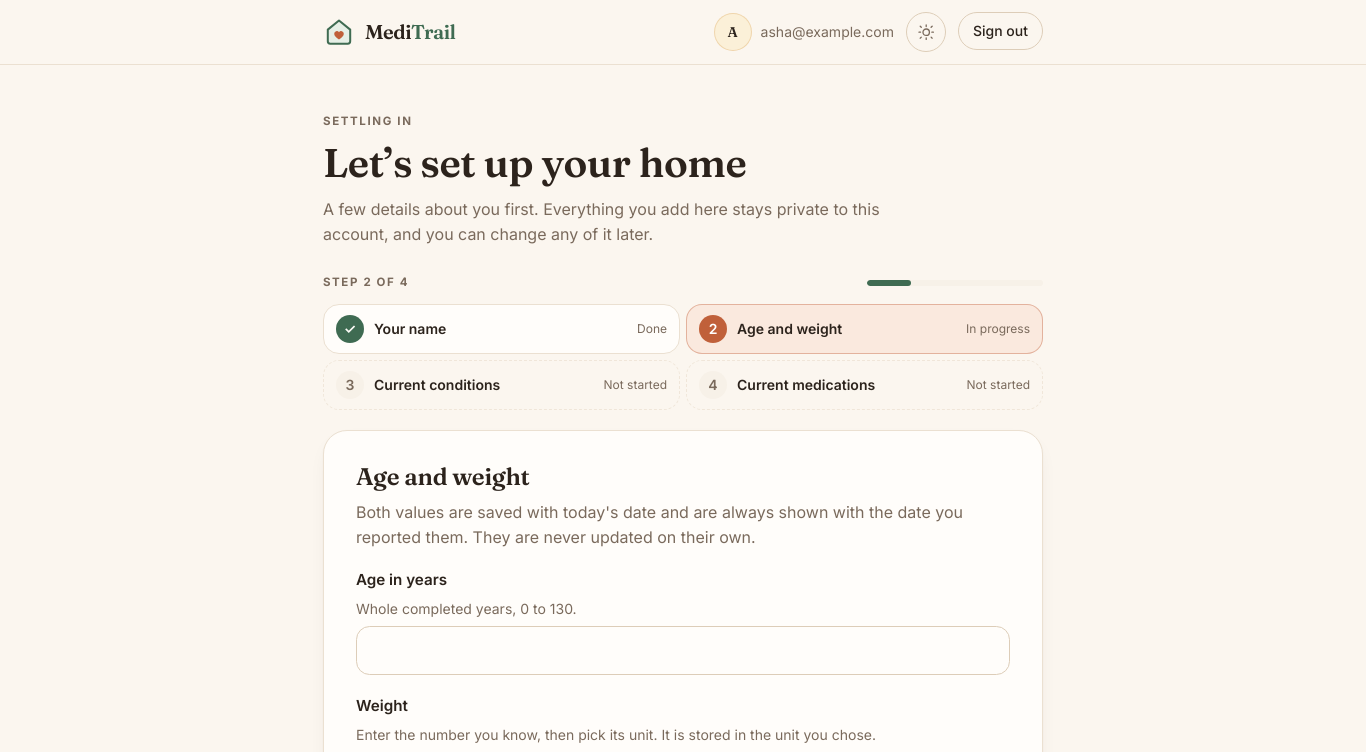
Test case: OnboardingWizard › sends age and weight with the reported time and the entered unit
The width and height of the screenshot is (1366, 752).
Expected: the heading "Age and weight" is shown, left=356, top=462, right=530, bottom=491
In the field labelled "Age in years": (683, 651) left=356, top=626, right=1010, bottom=675, type "34"
(page scrolled)
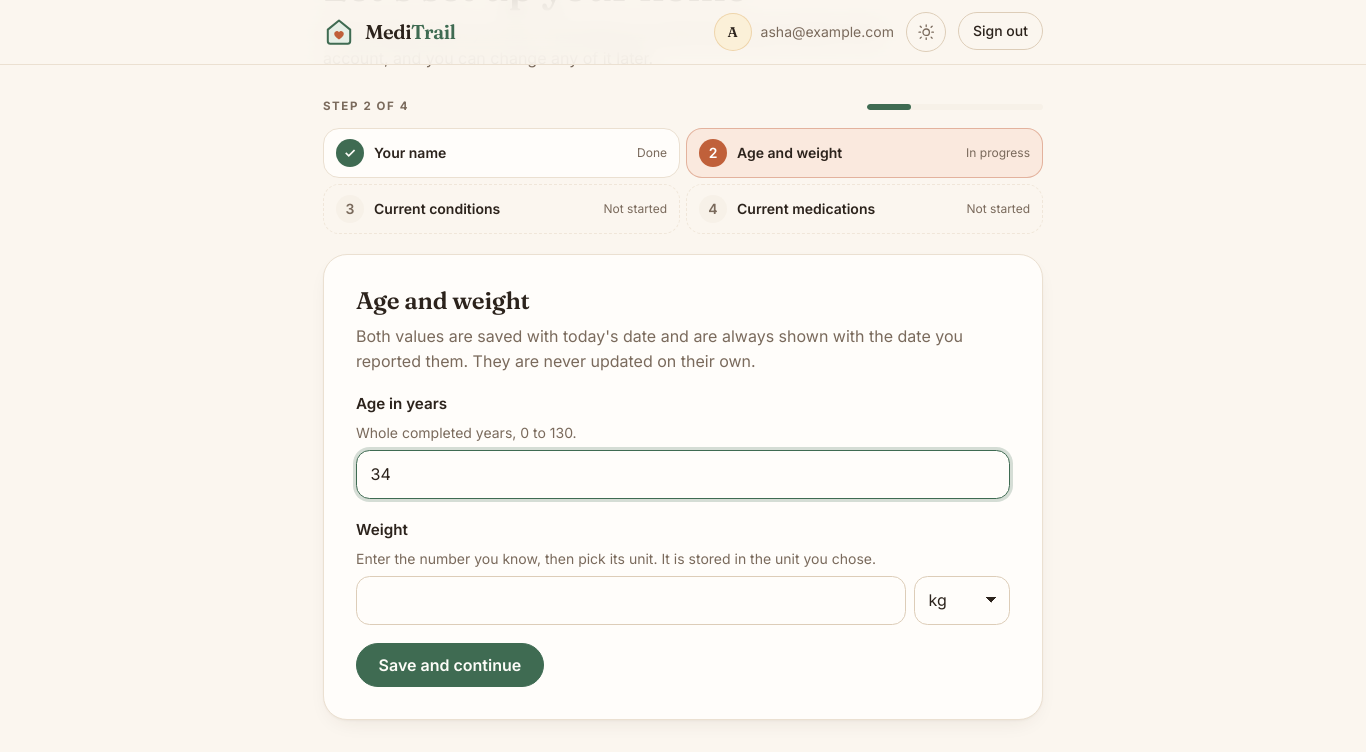
In the field labelled "Weight": (631, 600) left=356, top=576, right=906, bottom=625, type "150"
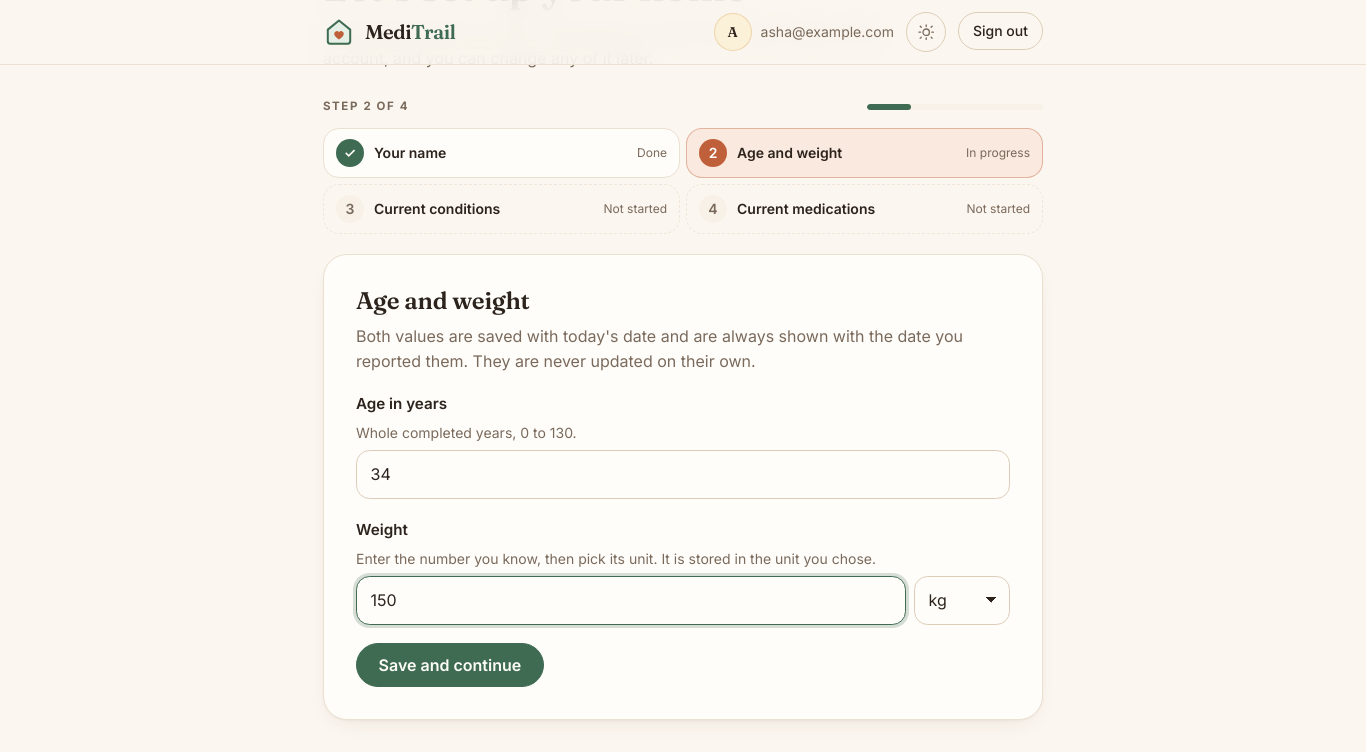
Select "lb" in the dropdown named "Weight unit": (962, 600) left=914, top=576, right=1010, bottom=625
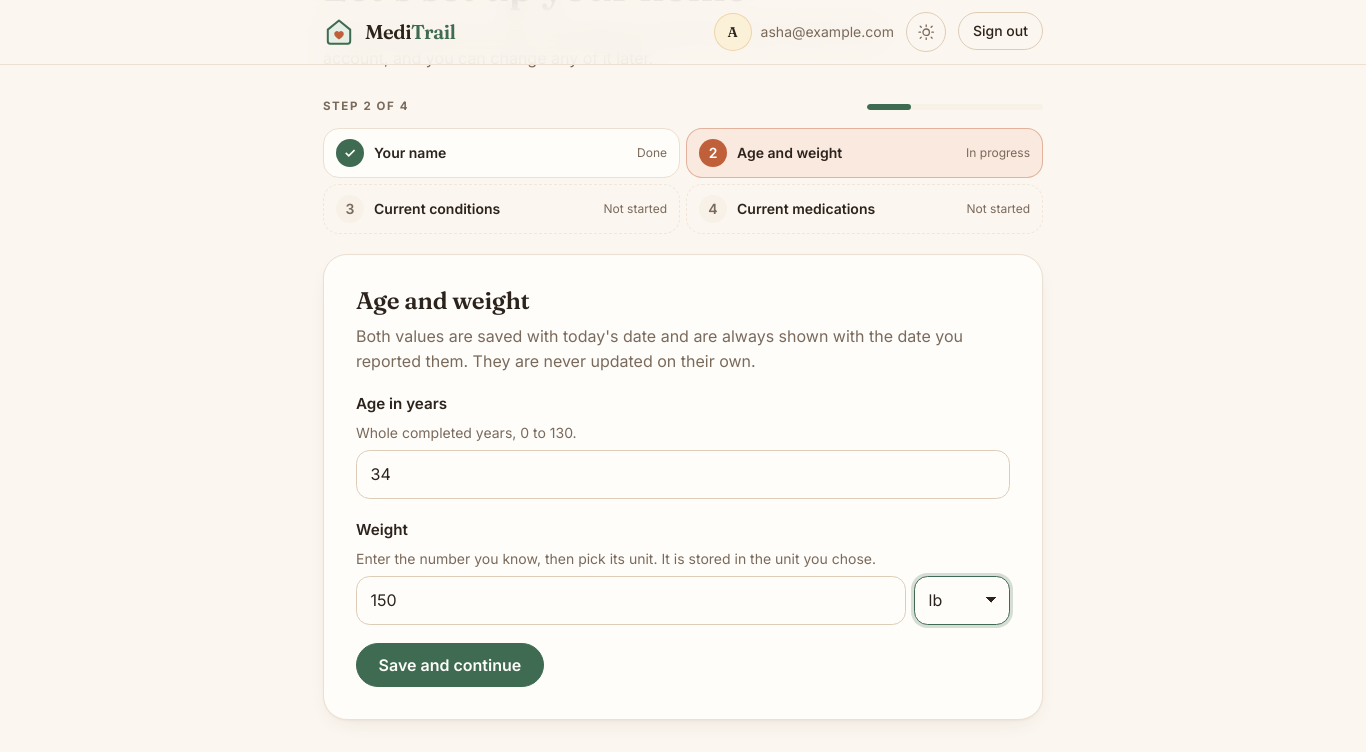
Click the button "Save and continue": (450, 665) left=356, top=643, right=544, bottom=687
(page scrolled)
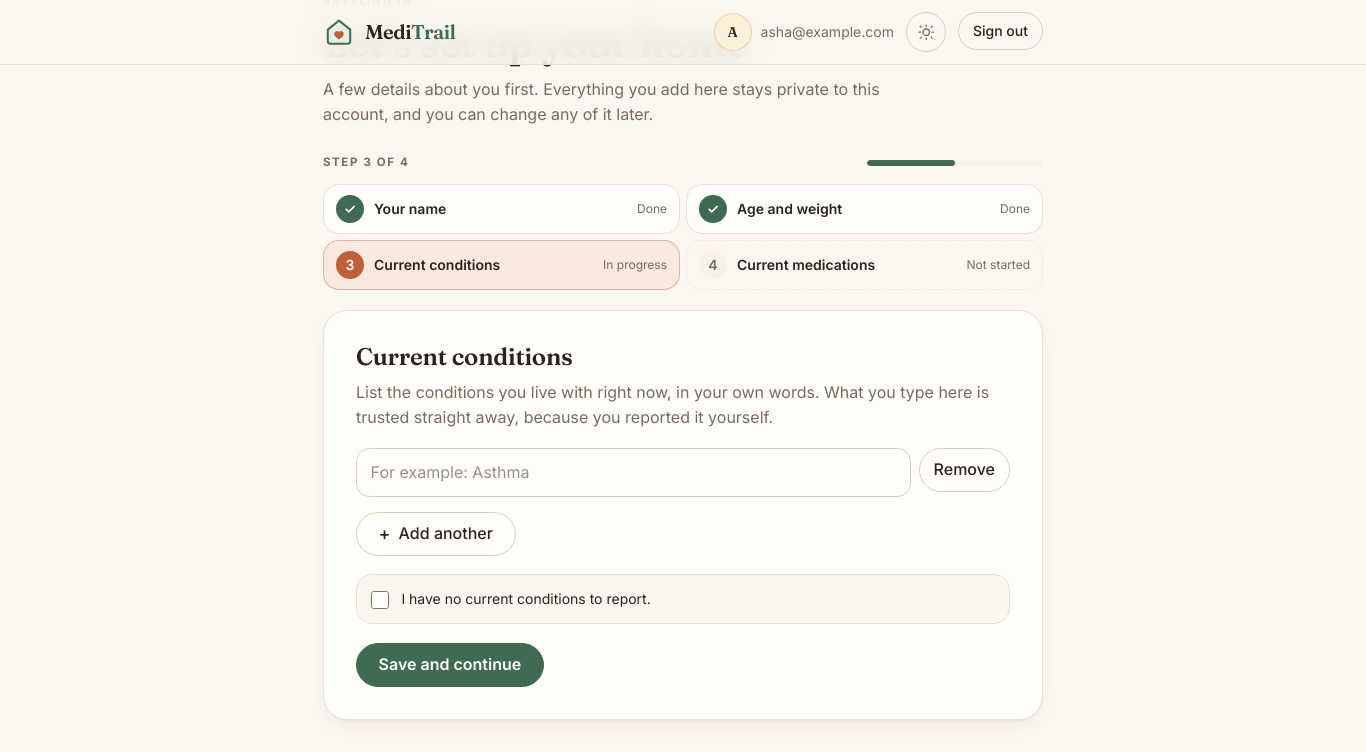
Now the heading "Current conditions" is shown, box left=356, top=342, right=573, bottom=371
